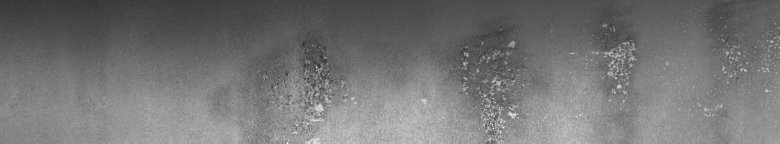hc: (263, 41, 344, 135)
